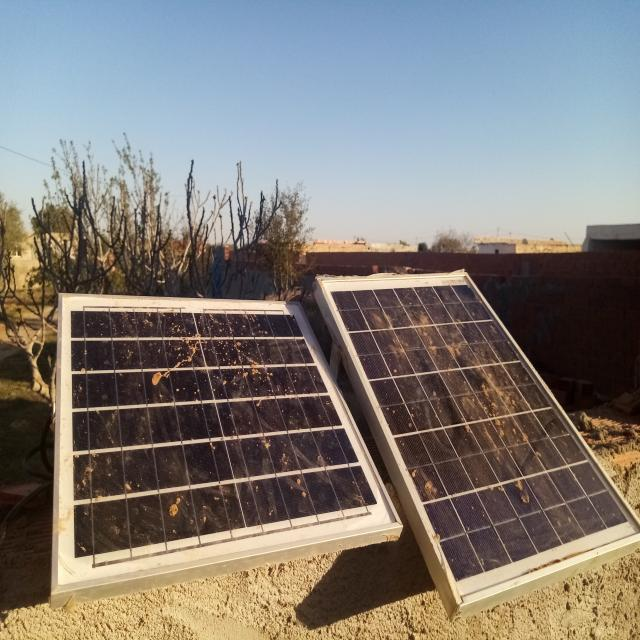faulty: (322, 273, 640, 599), (58, 302, 398, 593)
